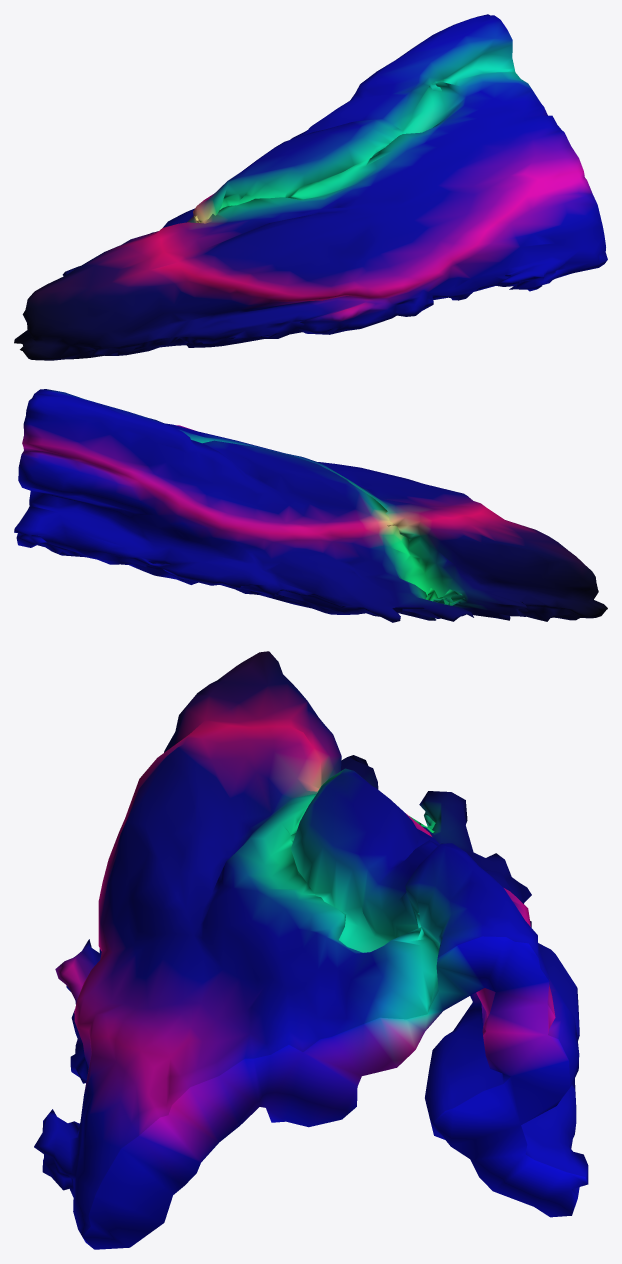
Rendered from silver_vein-u4-cracked-lod0.gltf.
The picture shows the model from 3 angles, top to bottom: view 1: azimuth 30°, elevation 25°; view 2: azimuth 150°, elevation 25°; view 3: azimuth 270°, elevation 25°; orthographic projection. The views are drawn at different scales.
Parts seen in each view (by area): view 1: silver_vein-u4-cracked-lod0; view 2: silver_vein-u4-cracked-lod0; view 3: silver_vein-u4-cracked-lod0.
Part boxes in pixels (left/top/right/bottom): silver_vein-u4-cracked-lod0: left=14, top=14, right=607, bottom=360; silver_vein-u4-cracked-lod0: left=14, top=389, right=607, bottom=622; silver_vein-u4-cracked-lod0: left=34, top=651, right=588, bottom=1249.
Size of the model in its own units: 1.65 by 0.489 by 0.7795.
